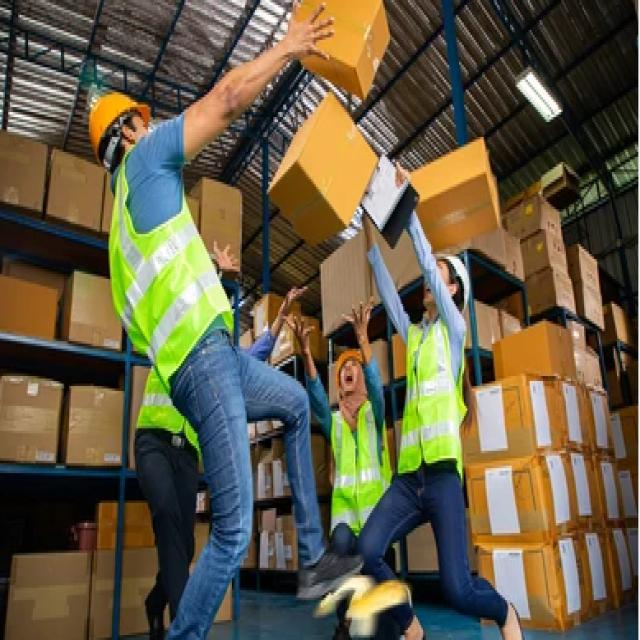helmet: (90, 91, 154, 167), (422, 251, 471, 327), (335, 342, 364, 398)
vest: (106, 135, 236, 397), (127, 292, 222, 469), (398, 315, 469, 482), (324, 404, 401, 541)
